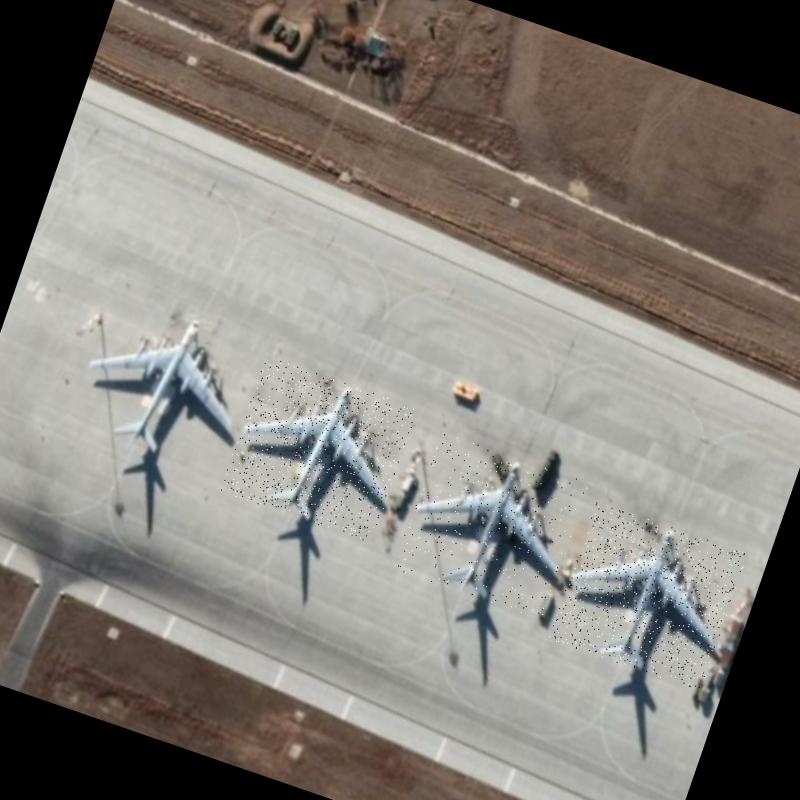A17: (65, 286, 264, 478), (548, 501, 748, 692), (392, 431, 590, 620), (219, 356, 418, 544)
